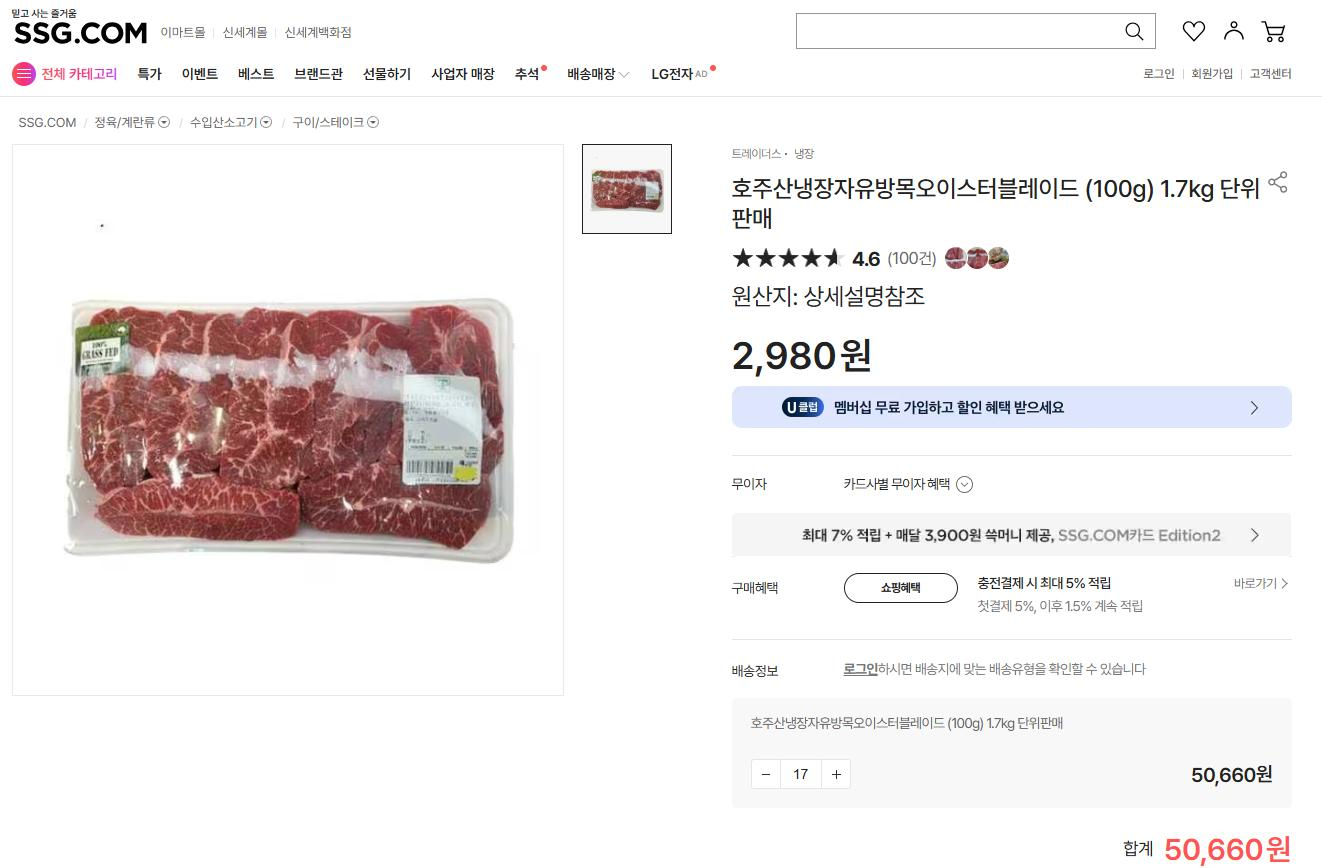button: (730, 381, 1290, 430), (744, 518, 1300, 551), (844, 571, 955, 604), (294, 11, 391, 46), (628, 49, 714, 88), (548, 60, 632, 91), (433, 59, 519, 88), (291, 58, 369, 82), (152, 22, 218, 50), (225, 19, 285, 48), (1228, 576, 1301, 599), (123, 61, 181, 88), (820, 772, 876, 798), (1174, 15, 1215, 50), (1233, 61, 1284, 88), (1246, 19, 1293, 46), (739, 761, 780, 791), (181, 61, 230, 86), (505, 59, 551, 84), (1139, 63, 1185, 86), (375, 63, 422, 85), (246, 60, 284, 86), (1189, 68, 1234, 88), (1223, 20, 1249, 50), (1276, 174, 1296, 199)
input_field: (798, 13, 1156, 51)
